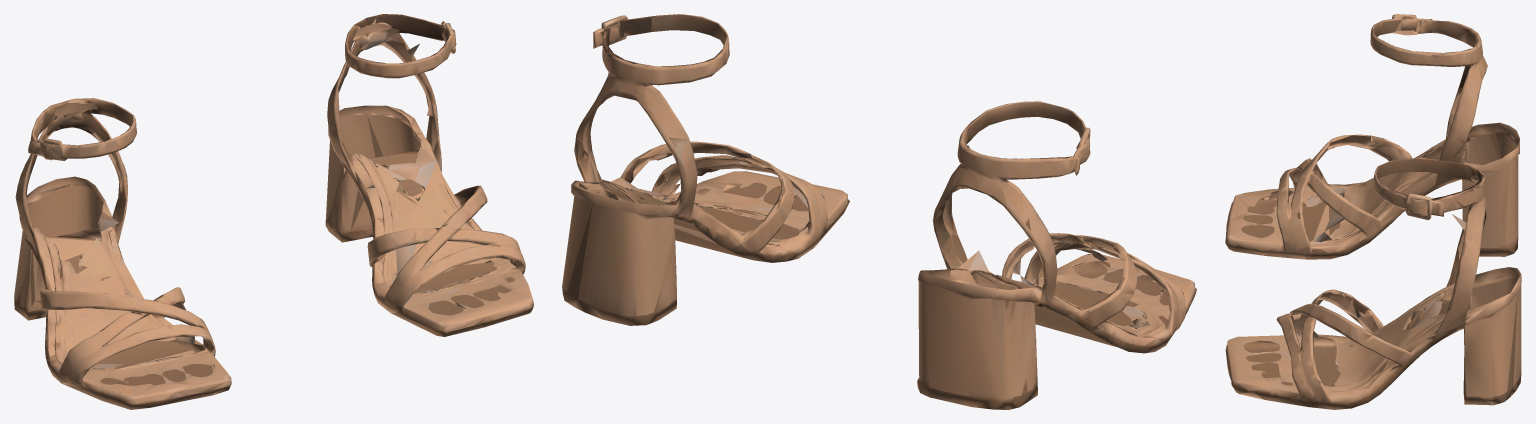
Rendered from shoes_f_sandals.glb.
3 views of the same model, side by side, from view 1: azimuth 30°, elevation 25°; view 2: azimuth 150°, elevation 25°; view 3: azimuth 270°, elevation 25° (orthographic). The views are drawn at different scales.
Visible parts, largest first — view 1: f_sandals; view 2: f_sandals; view 3: f_sandals.
Part boxes in pixels (x1,y1,x2,y2): f_sandals: (14, 14, 533, 409); f_sandals: (562, 14, 1196, 409); f_sandals: (1225, 14, 1521, 409).
Size of the model in its own units: 0.4573 by 0.2049 by 0.2662.
1 material, 1 textured.
